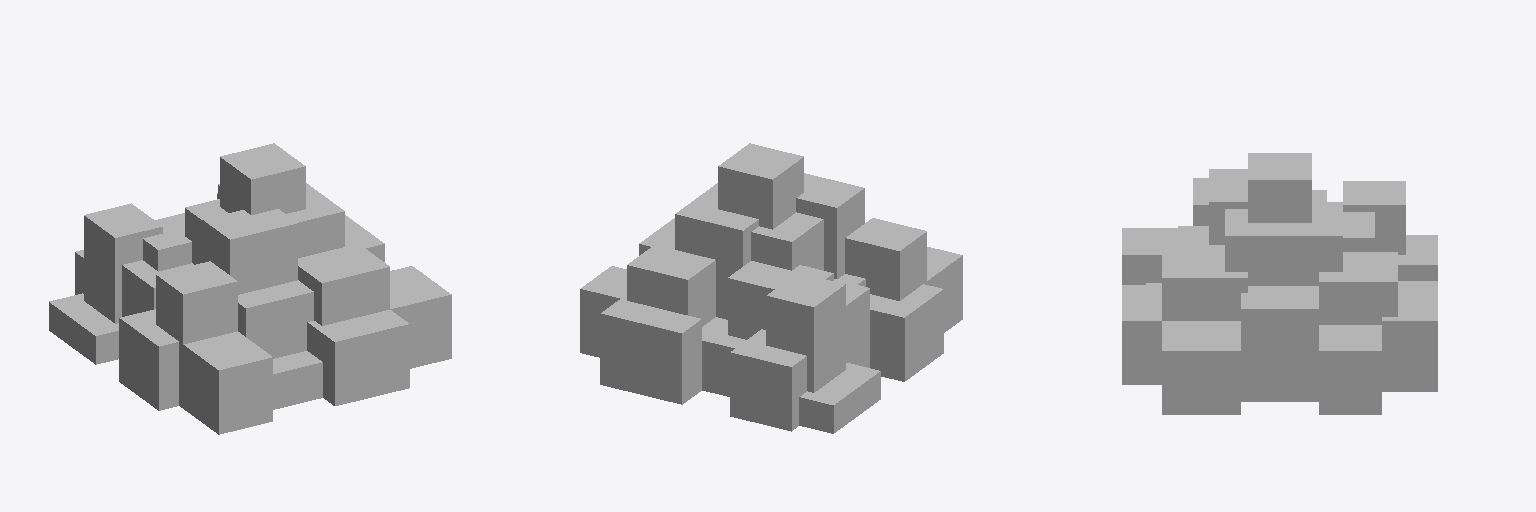
File: ammo.obj
3 views of the same model, side by side, from view 1: azimuth 30°, elevation 25°; view 2: azimuth 150°, elevation 25°; view 3: azimuth 270°, elevation 25° (orthographic).
Parts seen in each view (by area): view 1: ammo; view 2: ammo; view 3: ammo.
Boxes of the visible parts, box(x1,y1,x2,y2) form: ammo: box(49, 143, 451, 434); ammo: box(580, 143, 962, 433); ammo: box(1122, 153, 1437, 414).
Bounding box in the file's own units: 40 × 26 × 40.